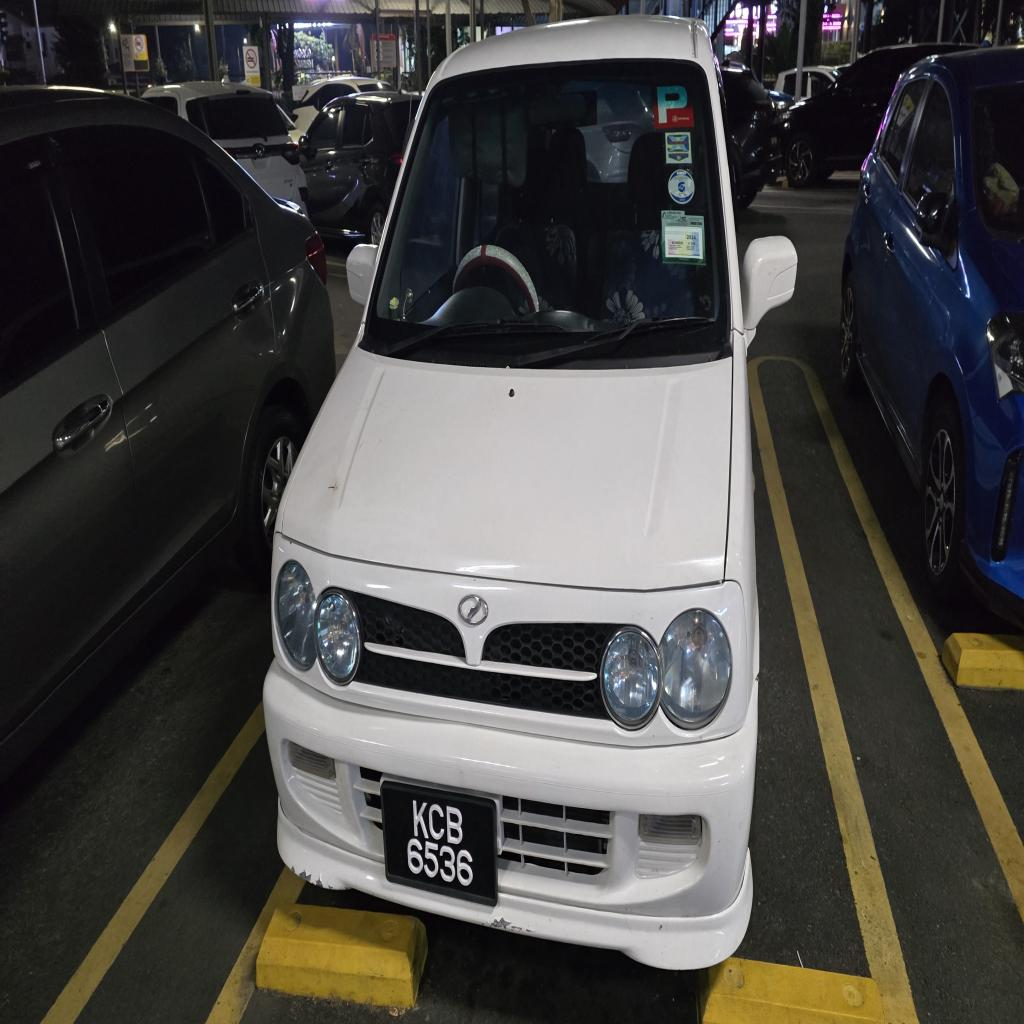car: (263, 17, 796, 968)
car plate: (380, 781, 496, 905)
